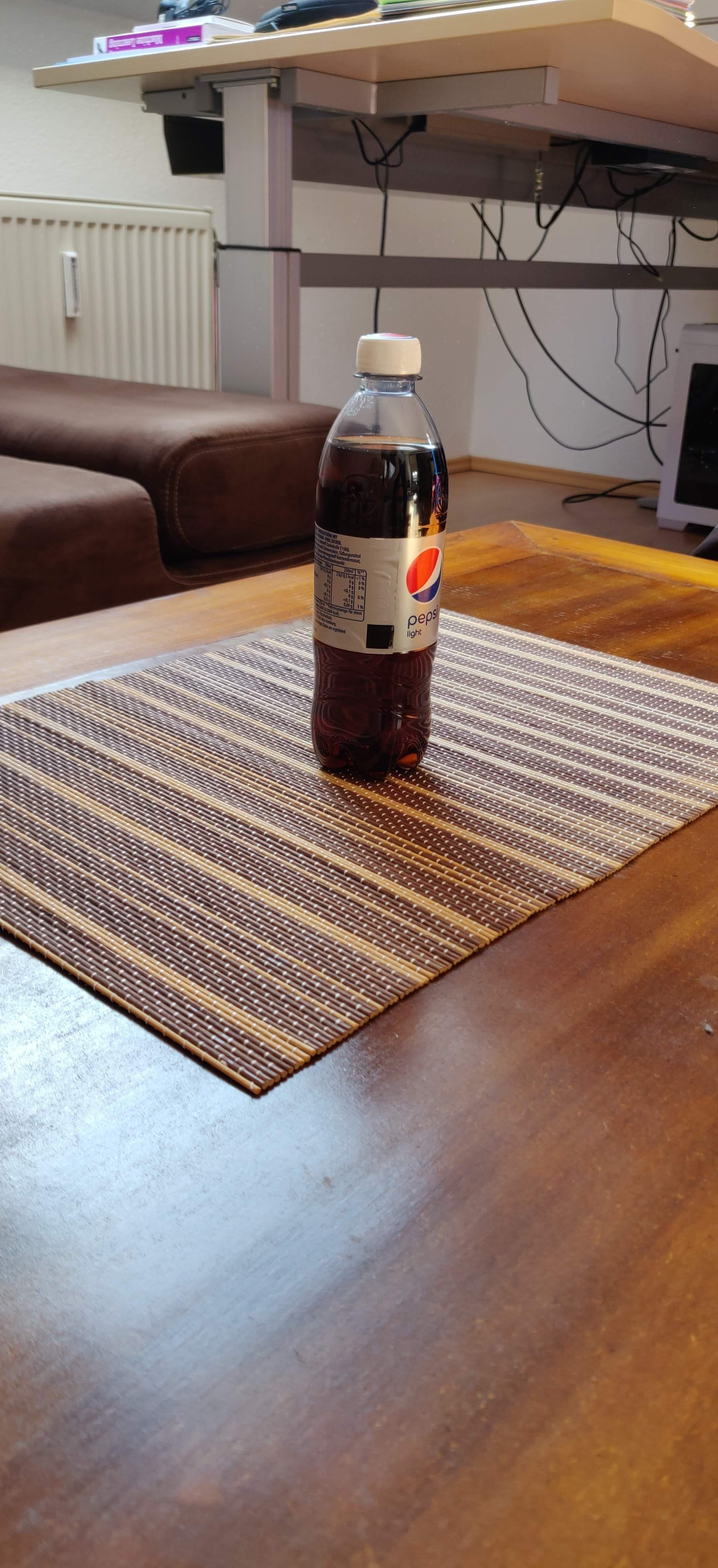bottle-plastic: (305, 329, 450, 784)
